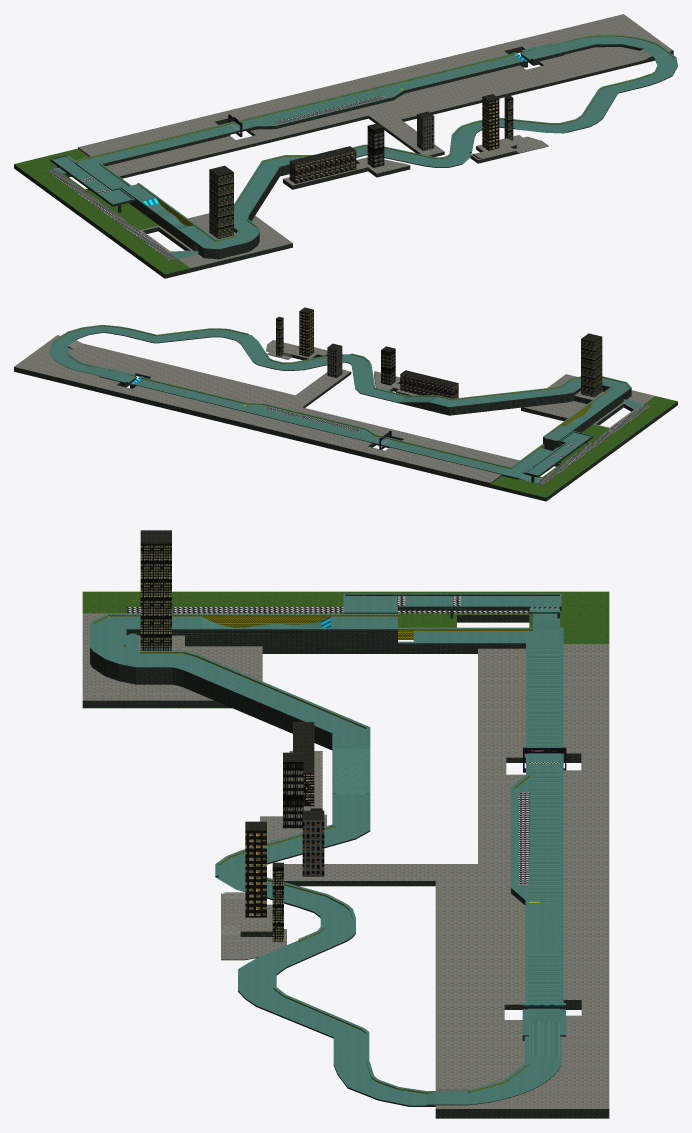
3 renders of one model, top to bottom at view 1: azimuth 30°, elevation 25°; view 2: azimuth 150°, elevation 25°; view 3: azimuth 270°, elevation 25°, orthographic. The views are drawn at different scales.
Parts seen in each view (by area): view 1: FZero_PortTown1_Main-offroad1, FZero_PortTown1_Main-route1, FZero_PortTown1_Main-mur1, FZero_PortTown1_Main-herbe1, FZero_PortTown1_Main-route2, FZero_PortTown1_Main-tour1, FZero_PortTown1_Main-mur2, FZero_PortTown1_Main-boost, FZero_PortTown1_Main-tour6, FZero_PortTown1_Main-tour2, FZero_PortTown1_Main-toit, FZero_PortTown1_Main-tour4 (+1 smaller); view 2: FZero_PortTown1_Main-offroad1, FZero_PortTown1_Main-route1, FZero_PortTown1_Main-mur1, FZero_PortTown1_Main-herbe1, FZero_PortTown1_Main-route2, FZero_PortTown1_Main-mur2, FZero_PortTown1_Main-tour1, FZero_PortTown1_Main-boost, FZero_PortTown1_Main-tour6, FZero_PortTown1_Main-tour2, FZero_PortTown1_Main-toit, FZero_PortTown1_Main-tour4 (+1 smaller); view 3: FZero_PortTown1_Main-offroad1, FZero_PortTown1_Main-route1, FZero_PortTown1_Main-mur1, FZero_PortTown1_Main-route2, FZero_PortTown1_Main-herbe1, FZero_PortTown1_Main-tour1, FZero_PortTown1_Main-mur2, FZero_PortTown1_Main-boost, FZero_PortTown1_Main-toit, FZero_PortTown1_Main-tour2, FZero_PortTown1_Main-tour4, FZero_PortTown1_Main-tour3.
Boxes of the visible parts, x1,y1,x2,y2 form: FZero_PortTown1_Main-offroad1: [78, 14, 672, 268]; FZero_PortTown1_Main-route1: [50, 34, 677, 258]; FZero_PortTown1_Main-mur1: [14, 44, 677, 278]; FZero_PortTown1_Main-herbe1: [14, 148, 189, 274]; FZero_PortTown1_Main-route2: [92, 40, 583, 163]; FZero_PortTown1_Main-tour1: [209, 97, 513, 238]; FZero_PortTown1_Main-mur2: [76, 35, 675, 241]; FZero_PortTown1_Main-boost: [47, 96, 385, 260]; FZero_PortTown1_Main-tour6: [289, 150, 356, 183]; FZero_PortTown1_Main-tour2: [482, 97, 499, 150]; FZero_PortTown1_Main-toit: [210, 94, 512, 175]; FZero_PortTown1_Main-tour4: [367, 126, 384, 167]; FZero_PortTown1_Main-offroad1: [14, 335, 654, 482]; FZero_PortTown1_Main-route1: [50, 324, 643, 482]; FZero_PortTown1_Main-mur1: [14, 332, 677, 501]; FZero_PortTown1_Main-herbe1: [490, 396, 677, 497]; FZero_PortTown1_Main-route2: [81, 365, 509, 473]; FZero_PortTown1_Main-mur2: [51, 325, 629, 468]; FZero_PortTown1_Main-tour1: [276, 318, 602, 397]; FZero_PortTown1_Main-boost: [264, 404, 650, 484]; FZero_PortTown1_Main-tour6: [400, 374, 458, 398]; FZero_PortTown1_Main-tour2: [299, 310, 313, 356]; FZero_PortTown1_Main-toit: [276, 307, 601, 386]; FZero_PortTown1_Main-tour4: [381, 349, 395, 385]; FZero_PortTown1_Main-offroad1: [82, 613, 609, 1108]; FZero_PortTown1_Main-route1: [90, 593, 565, 1105]; FZero_PortTown1_Main-mur1: [82, 594, 609, 1118]; FZero_PortTown1_Main-route2: [529, 644, 559, 1056]; FZero_PortTown1_Main-herbe1: [82, 591, 609, 643]; FZero_PortTown1_Main-tour1: [140, 543, 283, 941]; FZero_PortTown1_Main-mur2: [93, 615, 532, 1093]; FZero_PortTown1_Main-boost: [126, 596, 559, 884]; FZero_PortTown1_Main-toit: [140, 530, 324, 867]; FZero_PortTown1_Main-tour2: [245, 830, 266, 917]; FZero_PortTown1_Main-tour4: [283, 762, 303, 828]; FZero_PortTown1_Main-tour3: [302, 820, 324, 876].
Size of what is drawn, in the model's own units: 121099 by 13967 by 51902.
Materials: 18 (18 with a texture image).
